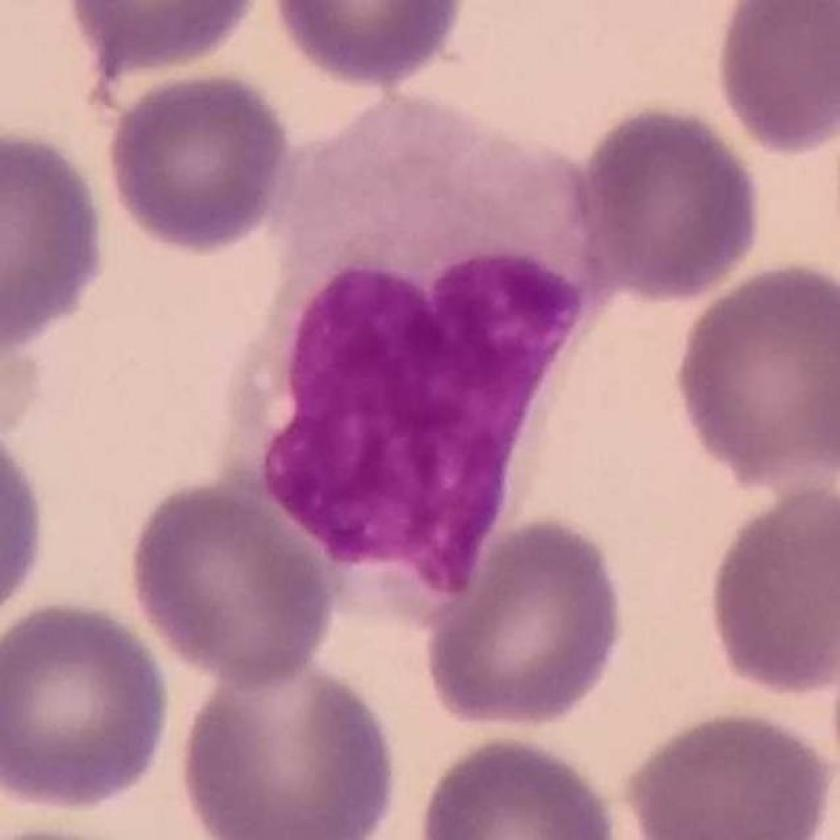monocyte: (222, 94, 616, 635)
